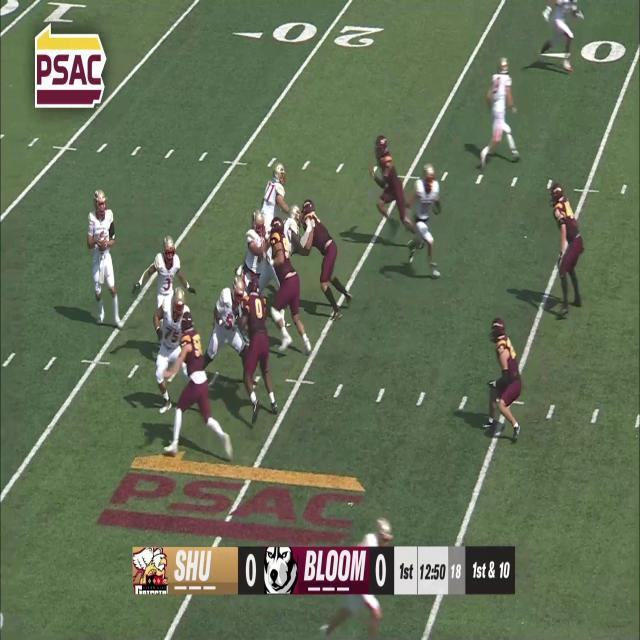football: (98, 234, 107, 253)
